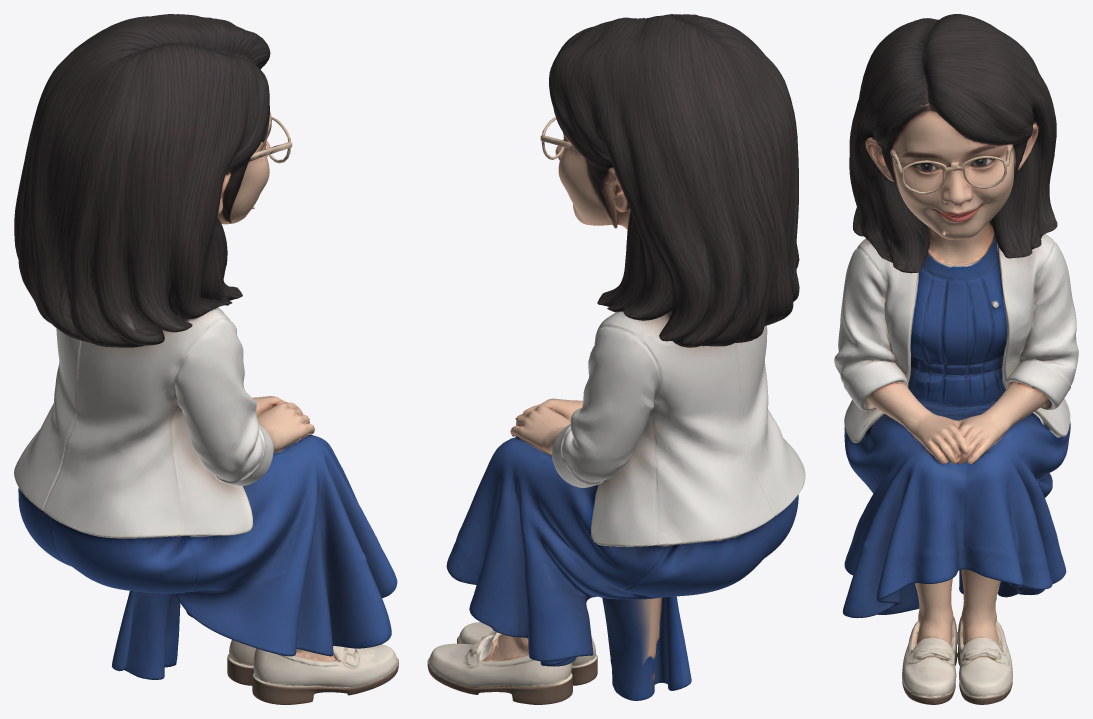
The model's file is 逯百慧.glb.
3 views of the same model, side by side, from view 1: azimuth 30°, elevation 25°; view 2: azimuth 150°, elevation 25°; view 3: azimuth 270°, elevation 25° (orthographic). The views are drawn at different scales.
Visible parts, largest first — view 1: tripo_node_fb53a3ba-ae00-4725-975d-083e83edaf94; view 2: tripo_node_fb53a3ba-ae00-4725-975d-083e83edaf94; view 3: tripo_node_fb53a3ba-ae00-4725-975d-083e83edaf94.
Part boxes in pixels (bbox=[...]): tripo_node_fb53a3ba-ae00-4725-975d-083e83edaf94: bbox=[14, 14, 398, 704]; tripo_node_fb53a3ba-ae00-4725-975d-083e83edaf94: bbox=[427, 14, 805, 704]; tripo_node_fb53a3ba-ae00-4725-975d-083e83edaf94: bbox=[834, 14, 1078, 704].
Size of the model in its own units: 0.5105 by 0.9791 by 0.3668.
1 material, 1 textured.
